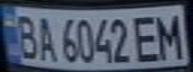0: (75, 15, 93, 64)
2: (109, 13, 133, 64)
4: (93, 15, 115, 64)
6: (54, 13, 78, 64)
A: (33, 12, 57, 62)
B: (9, 11, 42, 61)
E: (130, 11, 163, 63)
M: (151, 10, 187, 61)
